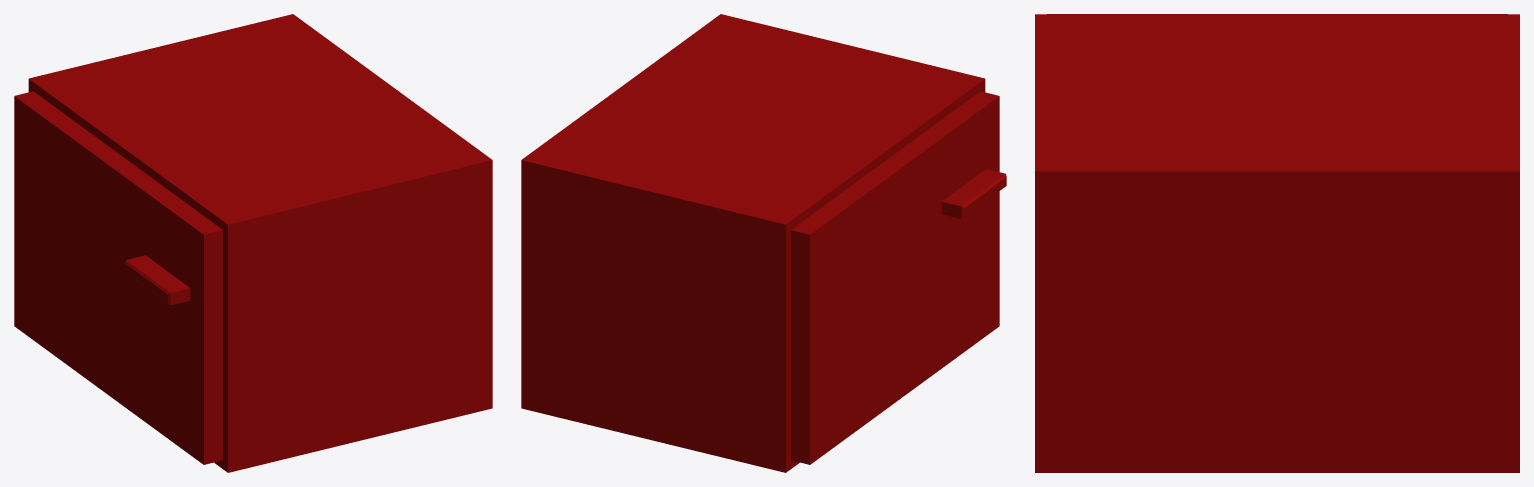
Rendered from CabinetTop.fbx.
3 views of the same model, side by side, from view 1: azimuth 30°, elevation 25°; view 2: azimuth 150°, elevation 25°; view 3: azimuth 270°, elevation 25° (orthographic). The views are drawn at different scales.
Parts seen in each view (by area): view 1: Cabinet_Cupboard001; view 2: Cabinet_Cupboard001; view 3: Cabinet_Cupboard001.
Boxes of the visible parts, x1,y1,x2,y2 form: Cabinet_Cupboard001: (14, 14, 492, 472); Cabinet_Cupboard001: (521, 14, 1006, 472); Cabinet_Cupboard001: (1035, 14, 1519, 472).
Bounding box in the file's own units: 44.19 × 34.32 × 50.
